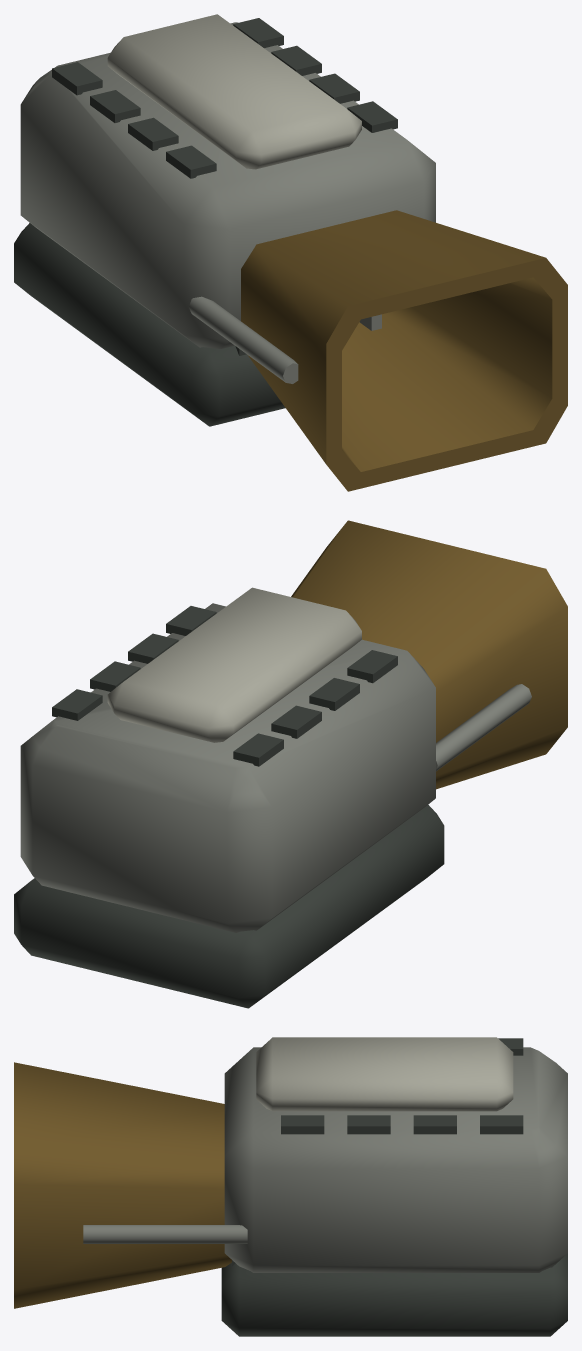
File: small_thruster.obj
The picture shows the model from 3 angles, top to bottom: view 1: azimuth 30°, elevation 25°; view 2: azimuth 150°, elevation 25°; view 3: azimuth 270°, elevation 25°; orthographic projection. The views are drawn at different scales.
Visible parts, largest first — view 1: source_component_003, source_component_001, source_component_002, source_component_000, source_component_007, source_component_015, source_component_009, source_component_011, source_component_013, source_component_010, source_component_012, source_component_014 (+1 smaller); view 2: source_component_001, source_component_003, source_component_000, source_component_002, source_component_007, source_component_009, source_component_015, source_component_013, source_component_011, source_component_016, source_component_014, source_component_012 (+1 smaller); view 3: source_component_001, source_component_003, source_component_000, source_component_002, source_component_008, source_component_012, source_component_010, source_component_014, source_component_016.
Part boxes in pixels (bbox=[...]): source_component_003: bbox=[241, 210, 567, 491]; source_component_001: bbox=[20, 22, 435, 348]; source_component_002: bbox=[107, 14, 361, 169]; source_component_000: bbox=[14, 223, 285, 426]; source_component_007: bbox=[189, 296, 298, 383]; source_component_015: bbox=[52, 62, 102, 95]; source_component_009: bbox=[166, 145, 216, 178]; source_component_011: bbox=[128, 117, 178, 150]; source_component_013: bbox=[90, 90, 140, 122]; source_component_010: bbox=[347, 101, 397, 132]; source_component_012: bbox=[309, 73, 359, 103]; source_component_014: bbox=[271, 45, 321, 75]; source_component_001: bbox=[20, 603, 435, 932]; source_component_003: bbox=[291, 520, 567, 789]; source_component_000: bbox=[14, 804, 444, 1008]; source_component_002: bbox=[107, 587, 361, 742]; source_component_007: bbox=[436, 684, 531, 771]; source_component_009: bbox=[347, 650, 397, 683]; source_component_015: bbox=[233, 733, 283, 766]; source_component_013: bbox=[271, 705, 321, 738]; source_component_011: bbox=[309, 678, 359, 710]; source_component_016: bbox=[52, 689, 102, 720]; source_component_014: bbox=[90, 661, 140, 691]; source_component_012: bbox=[128, 633, 178, 663]; source_component_001: bbox=[224, 1047, 567, 1272]; source_component_003: bbox=[14, 1062, 231, 1308]; source_component_000: bbox=[221, 1253, 567, 1336]; source_component_002: bbox=[256, 1037, 513, 1111]; source_component_008: bbox=[83, 1225, 247, 1243]; source_component_012: bbox=[347, 1115, 390, 1134]; source_component_010: bbox=[281, 1115, 324, 1134]; source_component_014: bbox=[413, 1115, 456, 1134]; source_component_016: bbox=[480, 1115, 523, 1134].
Size of the model in its own units: 0.88 by 0.89 by 1.92.
